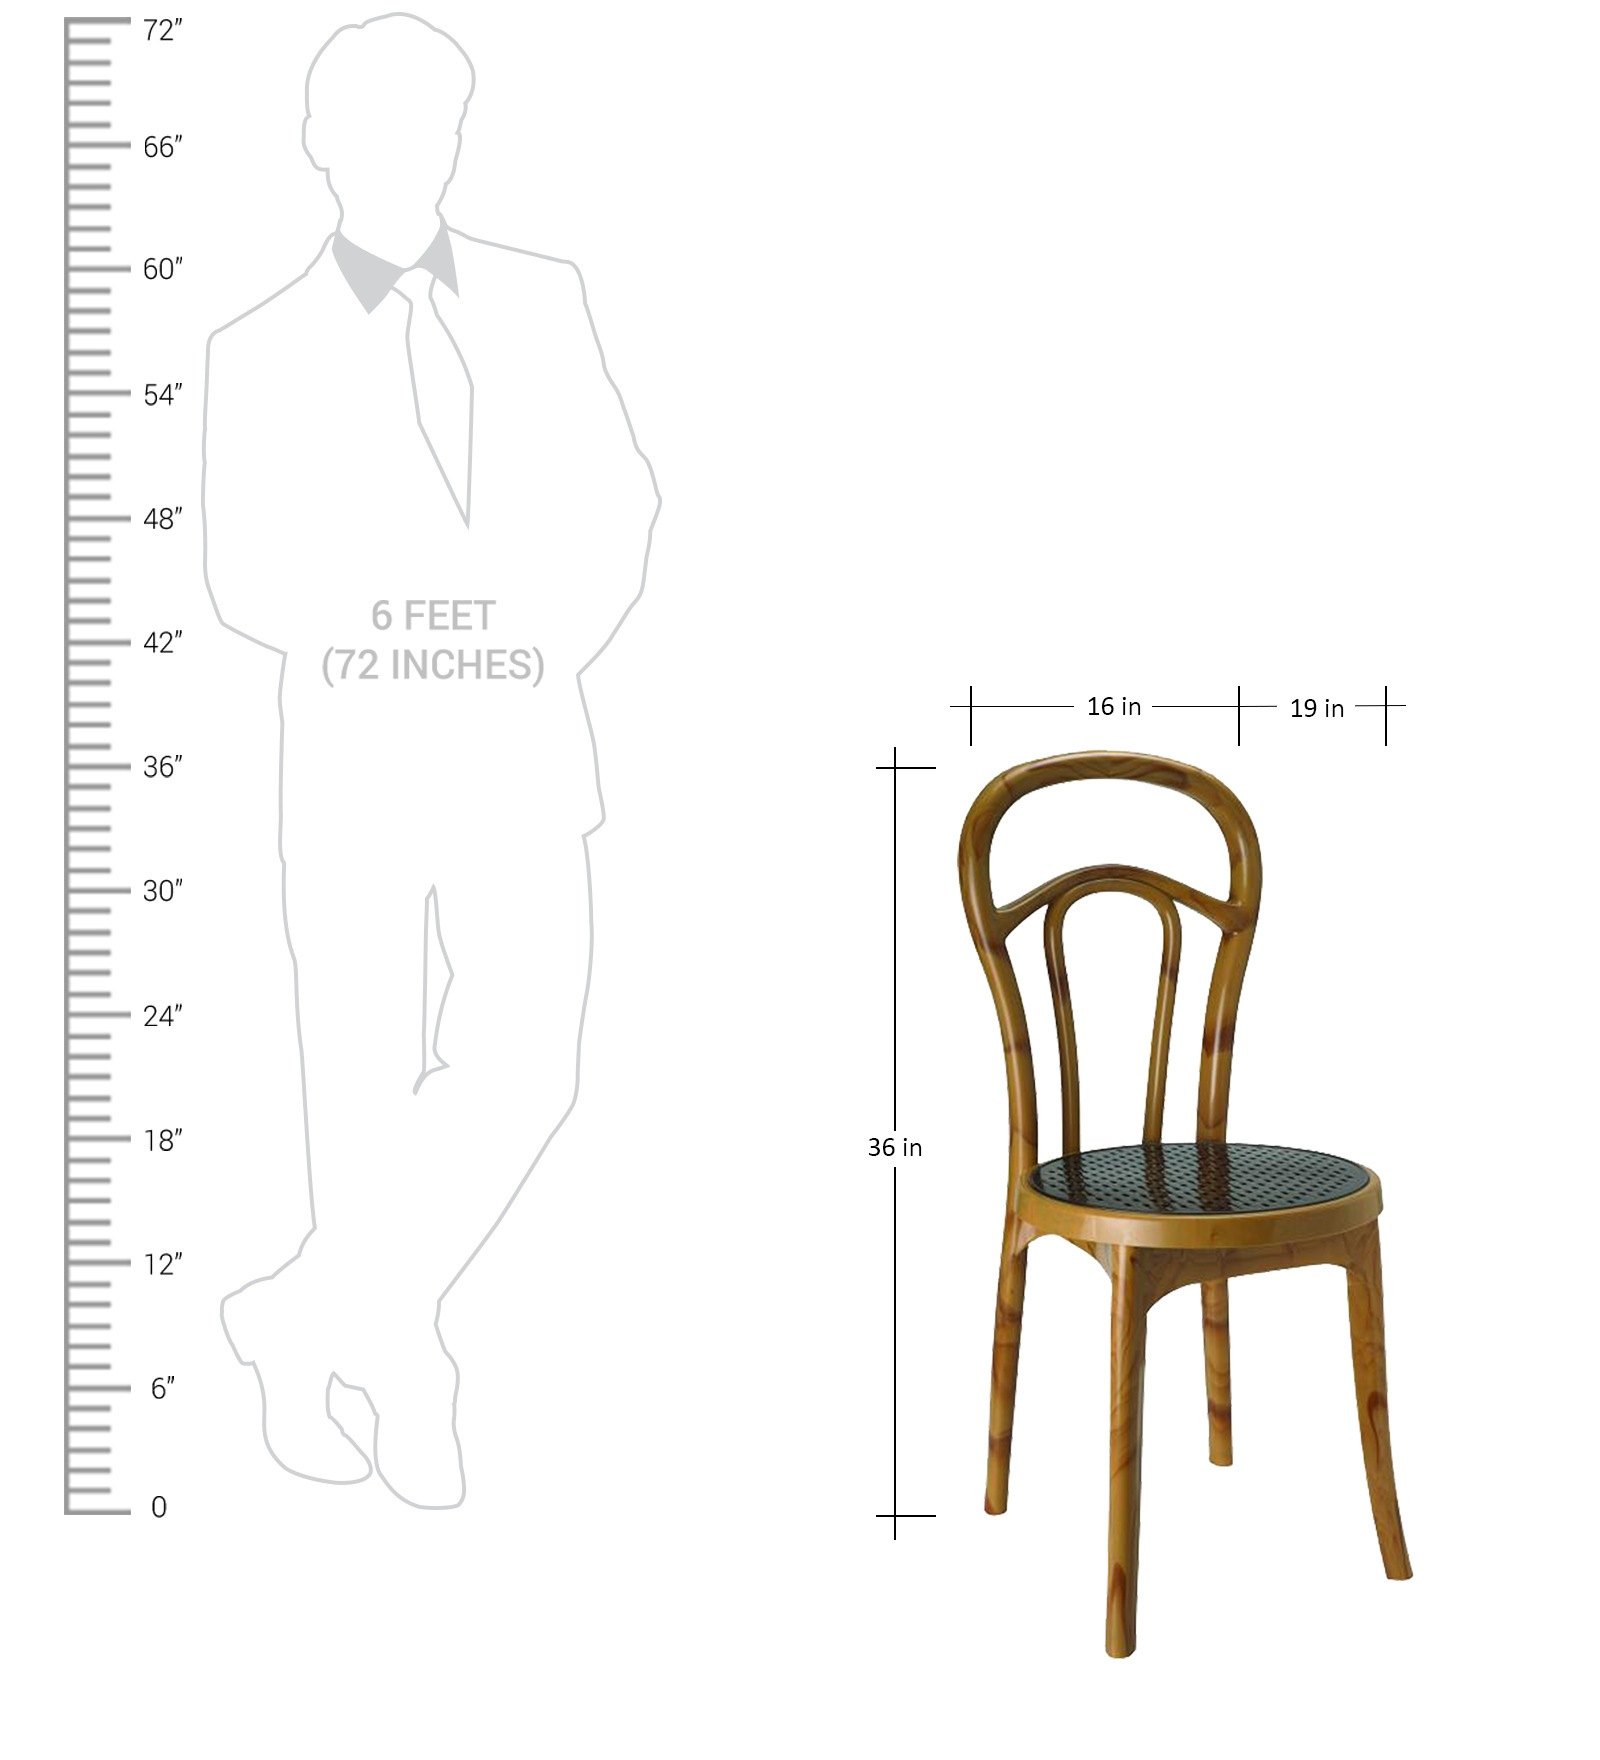Plastic Chair in Mapple & Weather Brown Colour by Nilkamal: (943, 750, 1484, 1680)
